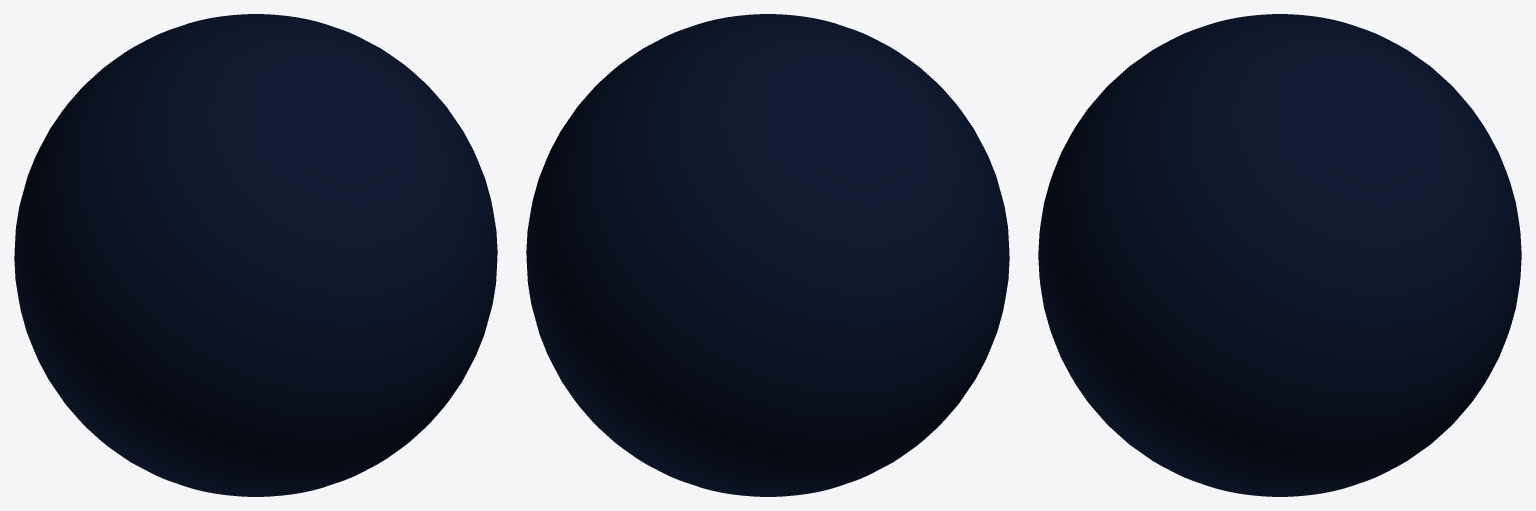
Rendered from earth.obj.
The picture shows the model from 3 angles, left to right: view 1: azimuth 30°, elevation 25°; view 2: azimuth 150°, elevation 25°; view 3: azimuth 270°, elevation 25°; orthographic projection.
Visible parts, largest first — view 1: Earth; view 2: Earth; view 3: Earth.
Part boxes in pixels (x1,y1,x2,y2): Earth: [14, 14, 497, 496]; Earth: [526, 14, 1009, 496]; Earth: [1038, 14, 1521, 496].
Size of the model in its own units: 1.28 by 1.28 by 1.28.
